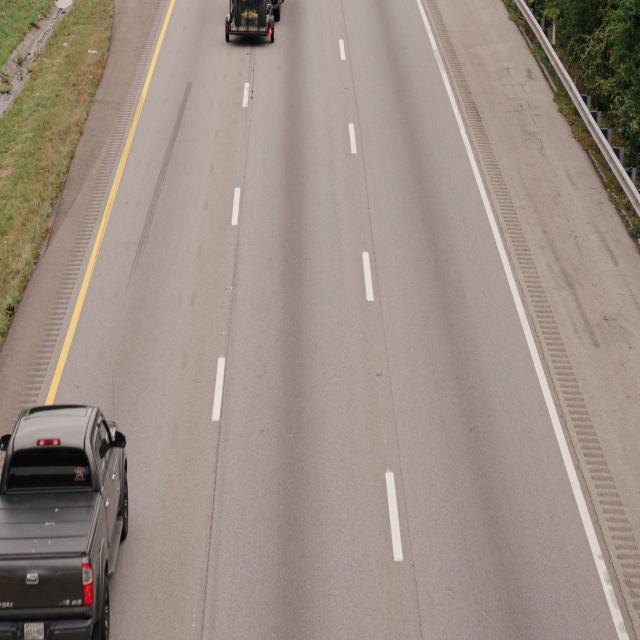Car: (0, 404, 133, 640)
